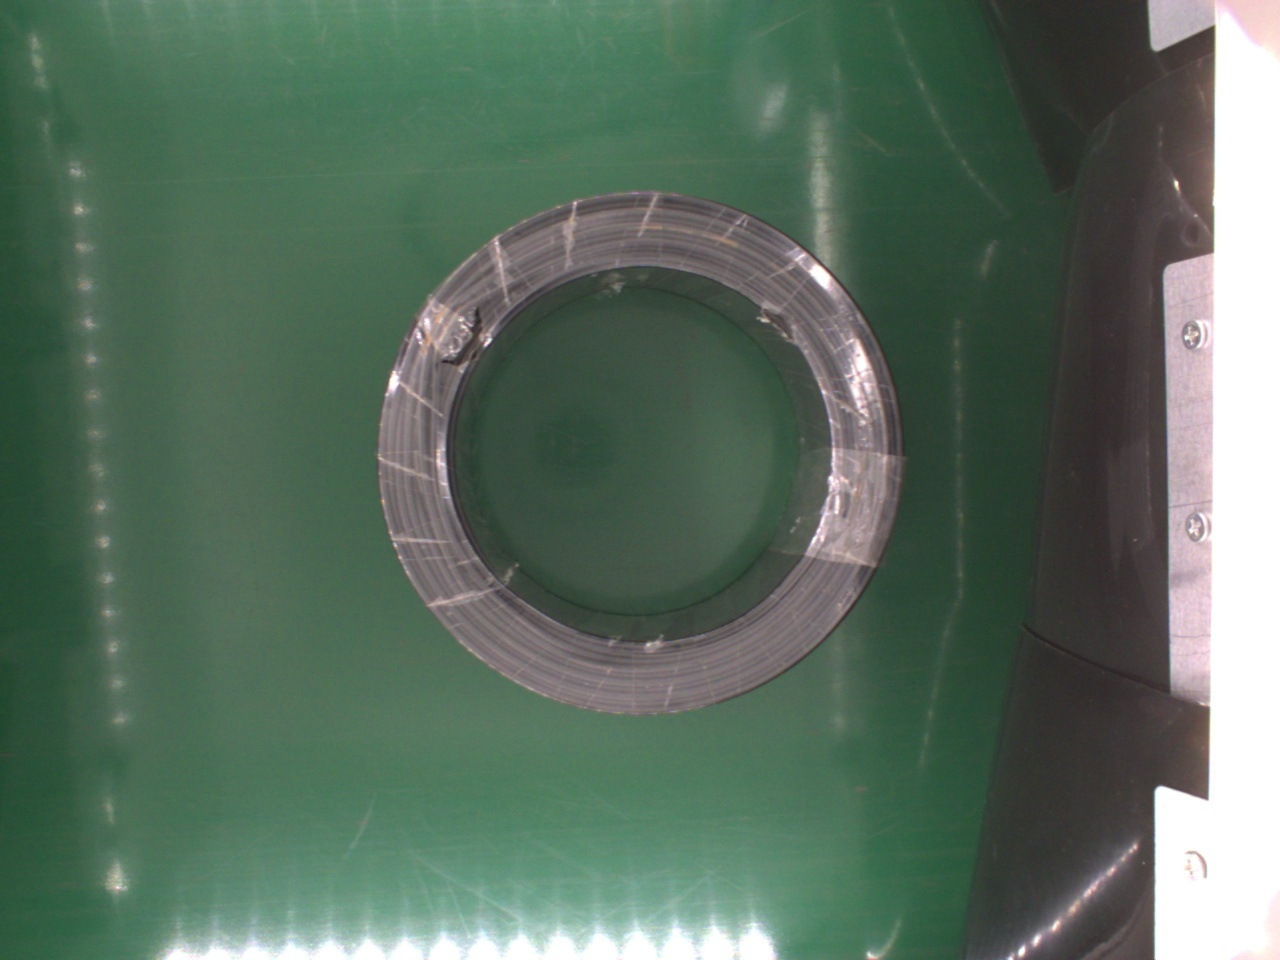black: (376, 192, 903, 714)
